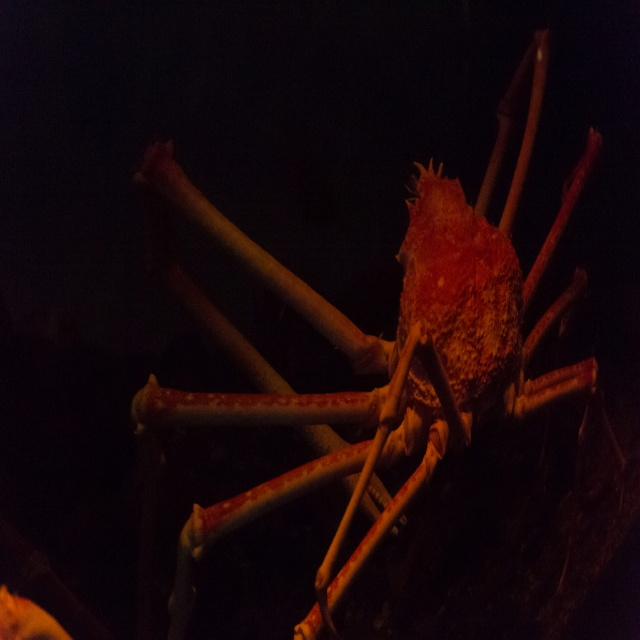Crab: (130, 32, 628, 639)
